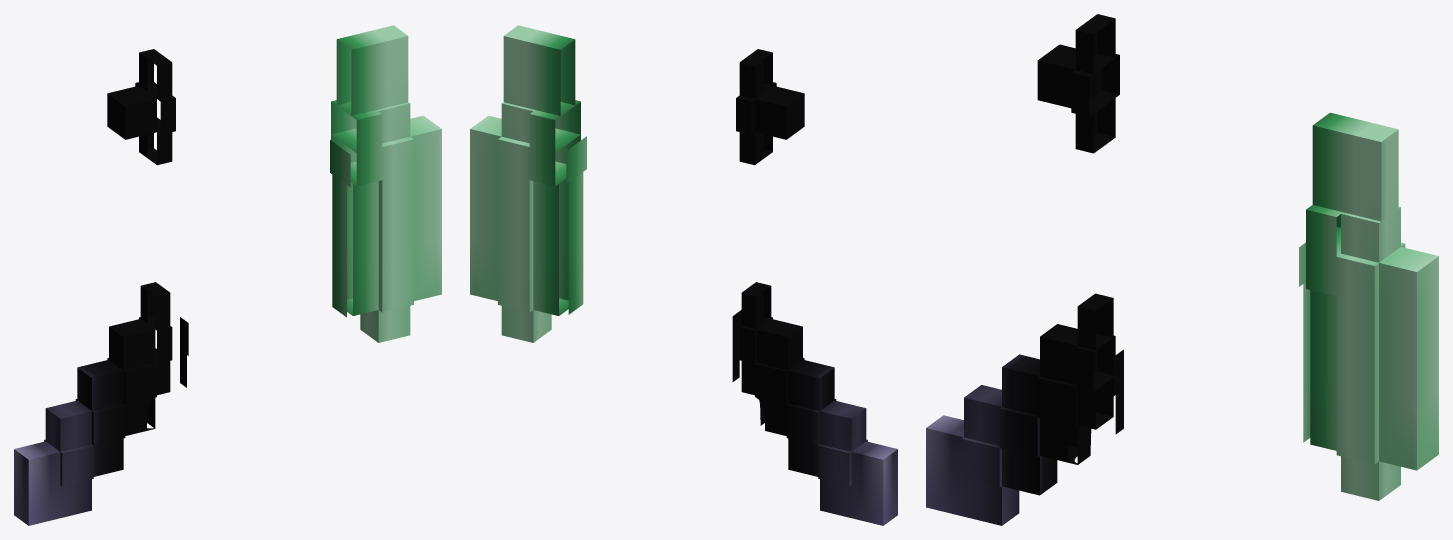
Rendered from GoldPickaxe.obj.
The picture shows the model from 3 angles, left to right: view 1: azimuth 30°, elevation 25°; view 2: azimuth 150°, elevation 25°; view 3: azimuth 330°, elevation 25°; orthographic projection. The views are drawn at different scales.
Parts seen in each view (by area): view 1: Pickaxe:Gold_Cube.619; view 2: Pickaxe:Gold_Cube.619; view 3: Pickaxe:Gold_Cube.619.
Boxes of the visible parts, bbox=[...] form: Pickaxe:Gold_Cube.619: bbox=[14, 25, 441, 525]; Pickaxe:Gold_Cube.619: bbox=[470, 25, 897, 525]; Pickaxe:Gold_Cube.619: bbox=[926, 14, 1438, 525].
Bounding box in the file's own units: 0.8125 × 0.8125 × 0.0875.
